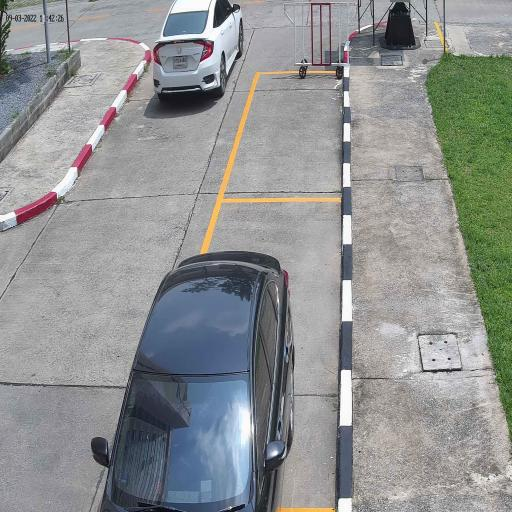car: (96, 250, 296, 512), (152, 0, 244, 104)
